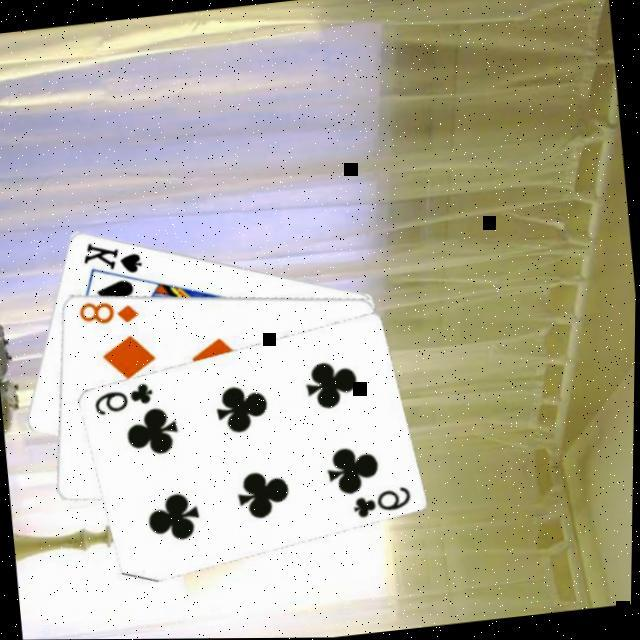6C: (92, 378, 159, 419), (350, 482, 417, 521)
8D: (77, 294, 144, 330)
KS: (80, 234, 149, 282)
